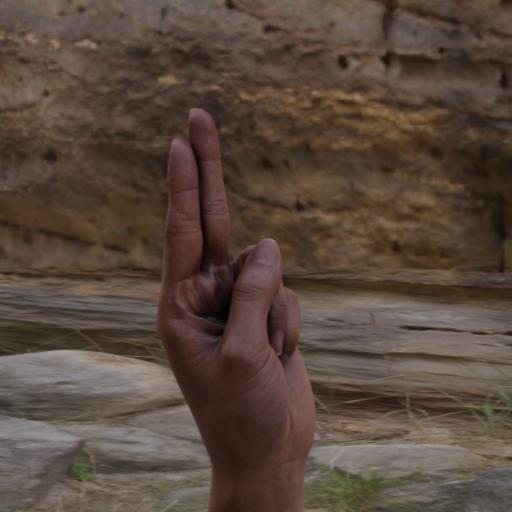U: (157, 102, 324, 476)
